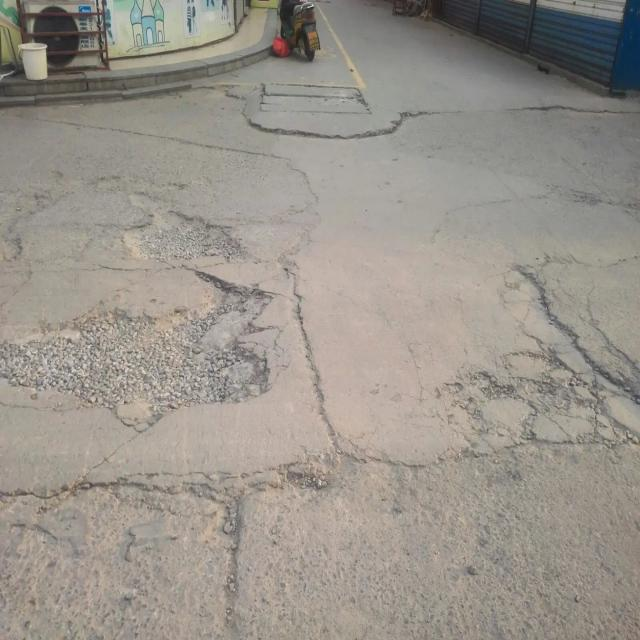Pothole: (0, 273, 279, 422), (452, 346, 632, 452), (117, 209, 250, 270), (250, 78, 373, 120)
